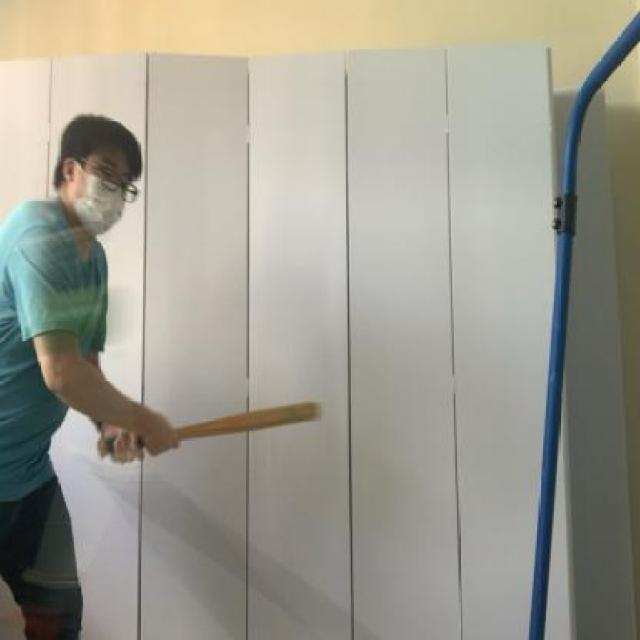baseball: (19, 262, 148, 360)
